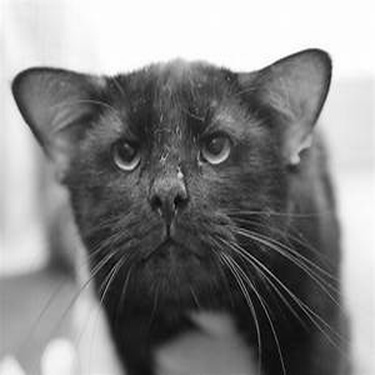cat: (11, 46, 353, 368)
